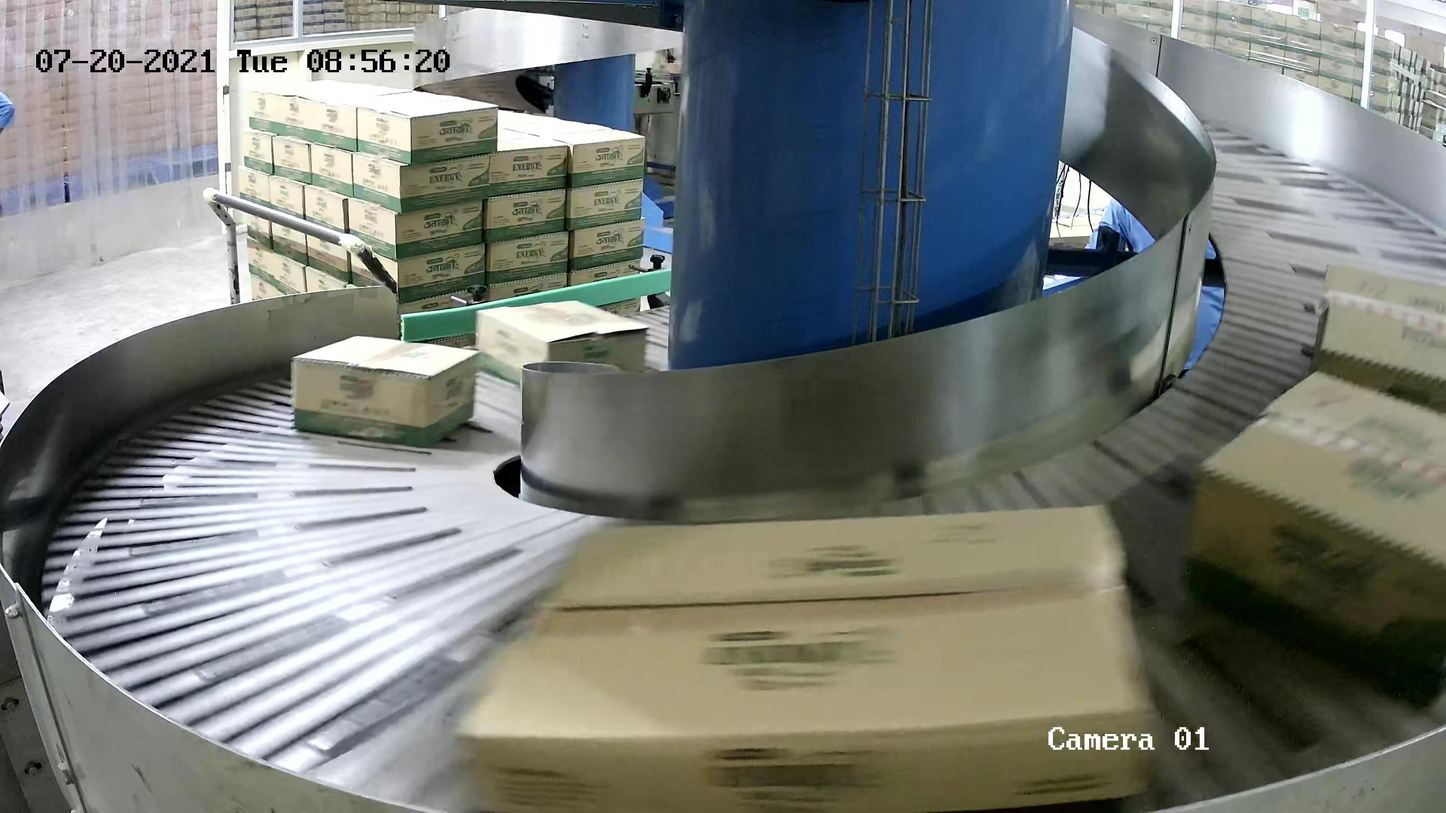Box: (457, 501, 1158, 813), (1182, 370, 1446, 710), (1311, 264, 1446, 444), (289, 335, 480, 448), (476, 300, 649, 398)
